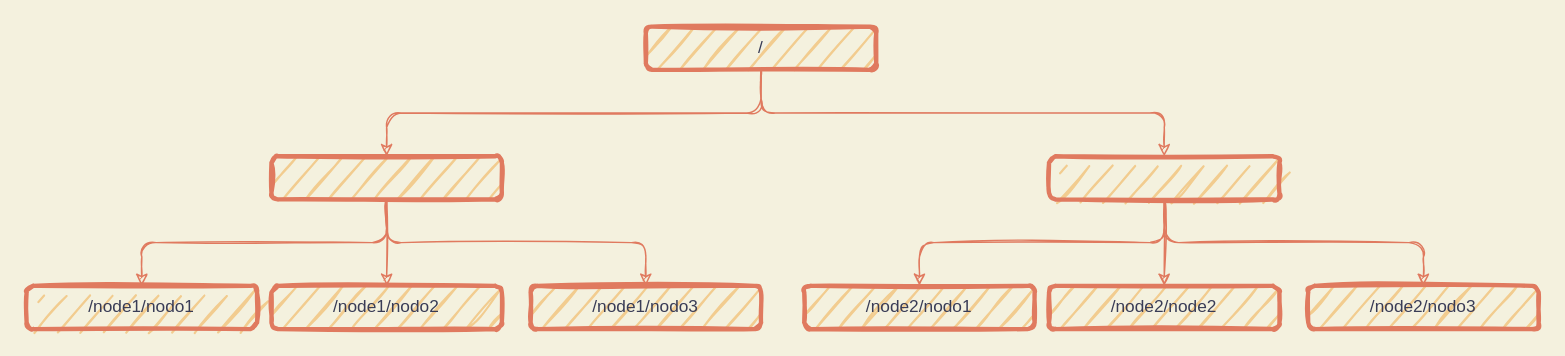
Some shapes in this 1565 by 356 pixel diagram are drawn without their labels. The centre of each missing label's shape, as x and y in pixels:
"/node2" belongs at (x=1163, y=177).
"/nodo1" belongs at (x=386, y=177).
